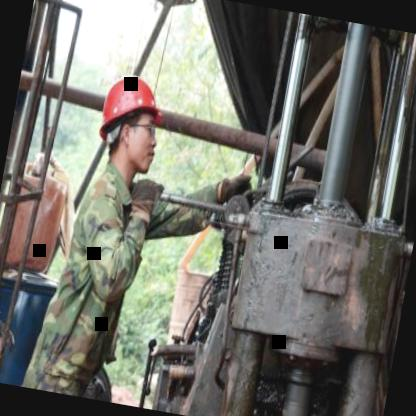helmet: (84, 60, 174, 183)
